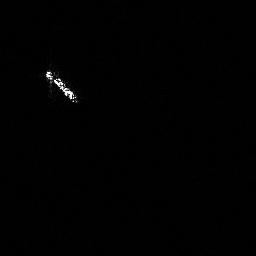ship: (42, 66, 81, 108)
